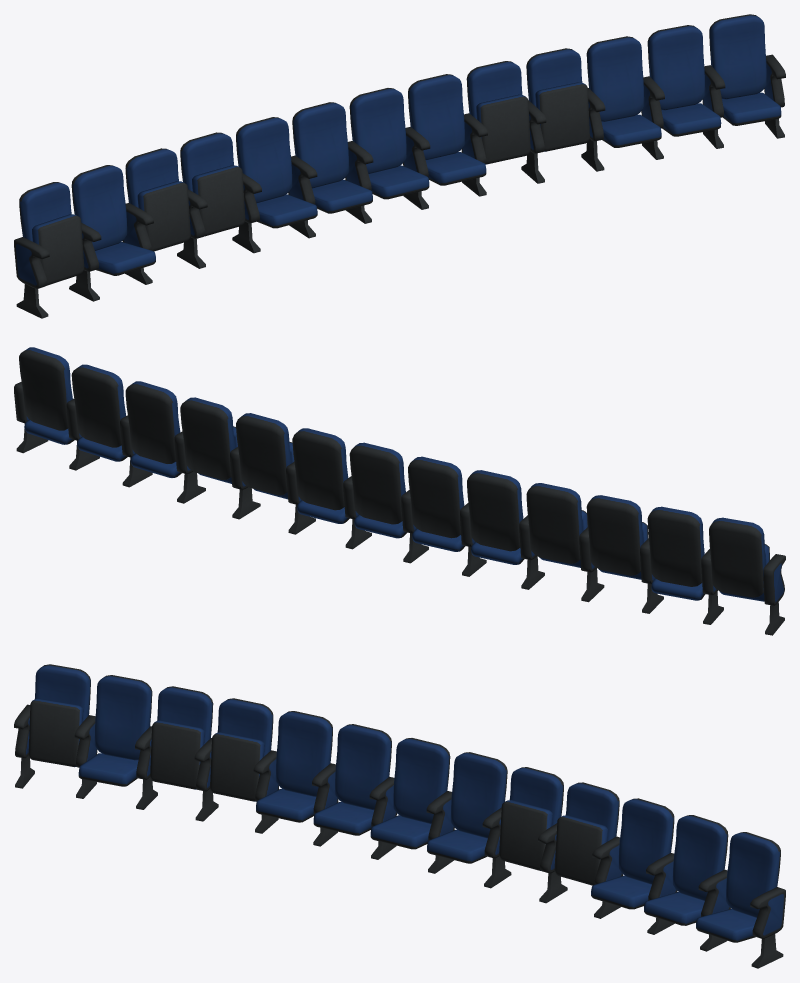
The model's file is CinemaArmChair02c.FBX.
3 views of the same model, one above another, from view 1: azimuth 30°, elevation 25°; view 2: azimuth 150°, elevation 25°; view 3: azimuth 330°, elevation 25° (orthographic).
Visible parts, largest first — view 1: CinemaArmChair02c; view 2: CinemaArmChair02c; view 3: CinemaArmChair02c.
Part boxes in pixels (x1=…): CinemaArmChair02c: x1=14, y1=14, x2=785, y2=318; CinemaArmChair02c: x1=14, y1=347, x2=785, y2=635; CinemaArmChair02c: x1=14, y1=664, x2=785, y2=968.
Bounding box in the file's own units: 1124 × 154 × 131.
